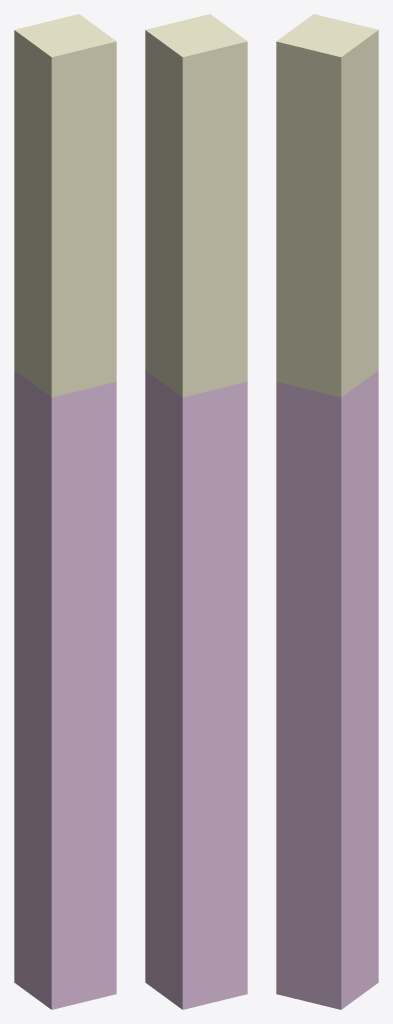
The model's file is Wall_C_Pillar.glb.
3 views of the same model, side by side, from view 1: azimuth 30°, elevation 25°; view 2: azimuth 210°, elevation 25°; view 3: azimuth 330°, elevation 25° (orthographic).
Visible parts, largest first — view 1: Wall C Pillar; view 2: Wall C Pillar; view 3: Wall C Pillar.
Part boxes in pixels (bbox=[...]): Wall C Pillar: bbox=[14, 14, 116, 1009]; Wall C Pillar: bbox=[145, 14, 247, 1009]; Wall C Pillar: bbox=[276, 14, 378, 1009].
Size of the model in its own units: 0.25 by 3.5 by 0.25.
